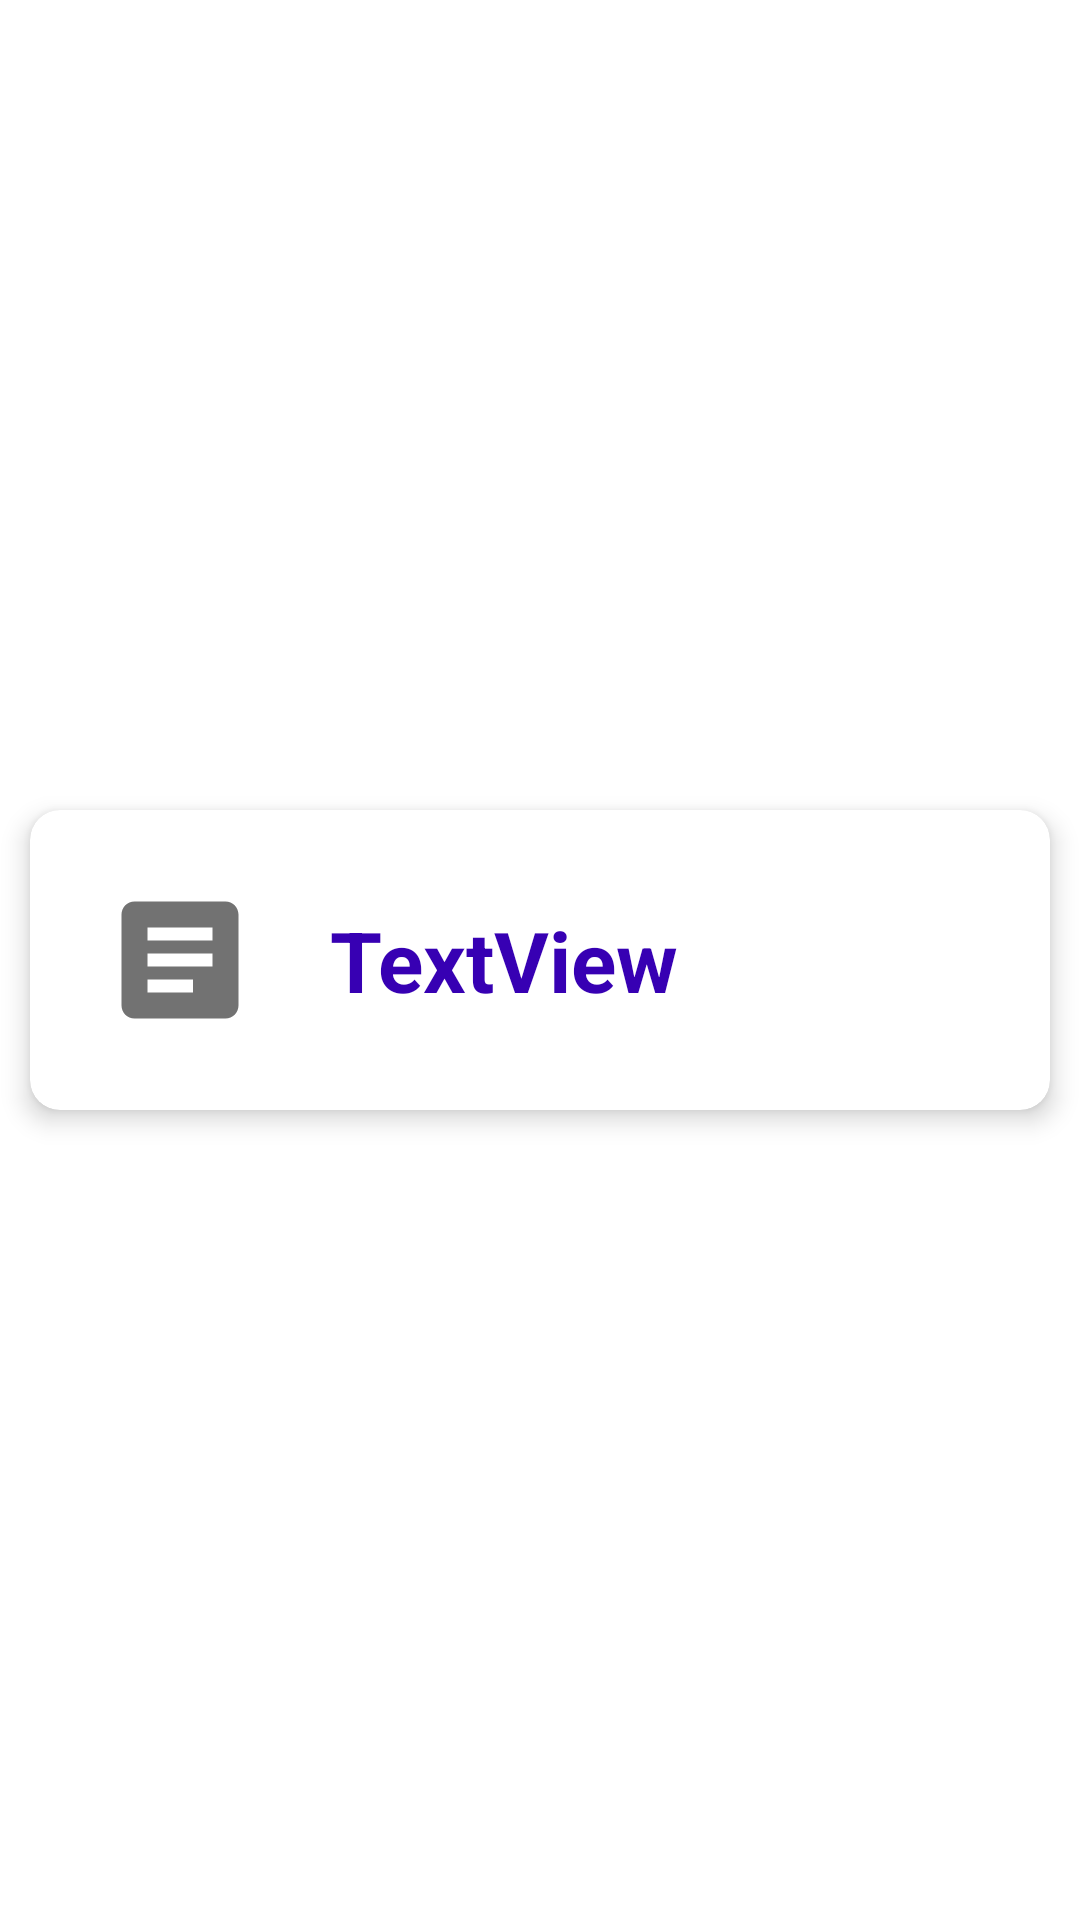

Icon click points for this 1080px×1920px phone screenshot, format (x=x, y=y):
article: (x=180, y=960)
